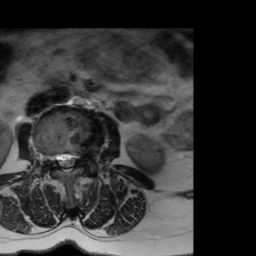CCS_normal: (62, 144, 69, 179)
LFS_severe_stenosis: (76, 144, 82, 166)
LLS_stenosis: (69, 144, 76, 173)
RFS_stenosis: (48, 146, 55, 170)
RLS_stenosis: (55, 147, 62, 171)
